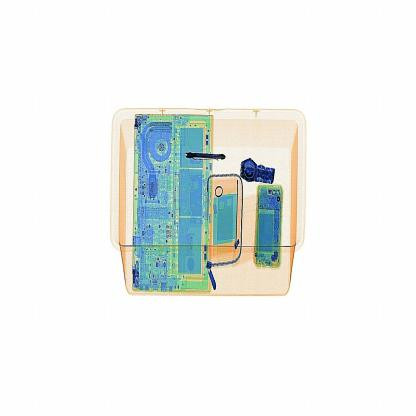knife: (179, 143, 233, 168)
